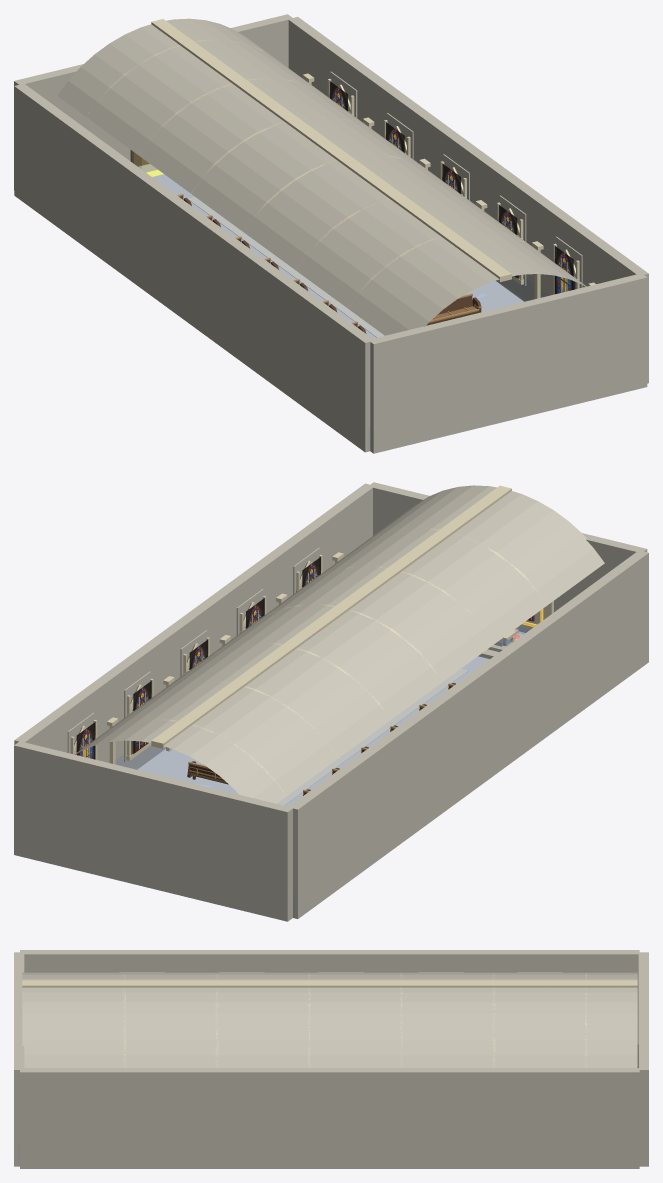
Rendered from town_temple.glb.
The picture shows the model from 3 angles, top to bottom: view 1: azimuth 30°, elevation 25°; view 2: azimuth 150°, elevation 25°; view 3: azimuth 270°, elevation 25°; orthographic projection. The views are drawn at different scales.
Visible parts, largest first — view 1: VIS_batch_MAT_temple_limestone_wall, VIS_batch_MAT_temple_warm_limestone_trim, COL_world_floor, VIS_floor_marble_nave, VIS_batch_MAT_temple_stained_glass_dawn_v2, VIS_batch_MAT_temple_dawn_cloth, VIS_batch_MAT_temple_pew_dark_endgrain; view 2: VIS_batch_MAT_temple_limestone_wall, VIS_batch_MAT_temple_warm_limestone_trim, COL_world_floor, VIS_floor_marble_nave, VIS_batch_MAT_temple_stained_glass_dawn_v2, VIS_batch_MAT_temple_dawn_cloth; view 3: VIS_batch_MAT_temple_limestone_wall, VIS_batch_MAT_temple_warm_limestone_trim.
Part boxes in pixels (x1,y1,x2,y2): VIS_batch_MAT_temple_limestone_wall: [14, 14, 648, 453]; VIS_batch_MAT_temple_warm_limestone_trim: [87, 19, 595, 306]; COL_world_floor: [153, 174, 523, 337]; VIS_floor_marble_nave: [138, 164, 523, 338]; VIS_batch_MAT_temple_stained_glass_dawn_v2: [329, 81, 573, 294]; VIS_batch_MAT_temple_dawn_cloth: [188, 197, 384, 337]; VIS_batch_MAT_temple_pew_dark_endgrain: [179, 196, 481, 333]; VIS_batch_MAT_temple_limestone_wall: [14, 482, 648, 921]; VIS_batch_MAT_temple_warm_limestone_trim: [70, 485, 553, 795]; COL_world_floor: [137, 656, 488, 805]; VIS_floor_marble_nave: [137, 656, 489, 806]; VIS_batch_MAT_temple_stained_glass_dawn_v2: [76, 557, 530, 759]; VIS_batch_MAT_temple_dawn_cloth: [276, 638, 502, 805]; VIS_batch_MAT_temple_limestone_wall: [14, 950, 648, 1168]; VIS_batch_MAT_temple_warm_limestone_trim: [22, 973, 637, 1067].
Bounding box in the file's own units: 28.2 × 13.53 × 61.9.
17 materials, 1 textured.
